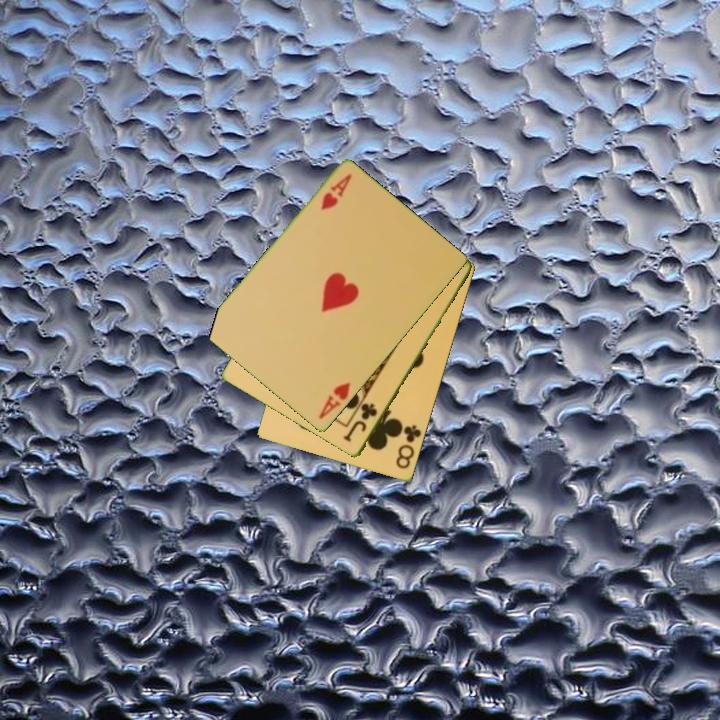8c: (393, 421, 424, 472)
Ah: (315, 379, 354, 423), (317, 171, 355, 214)
Jc: (340, 400, 381, 445)
